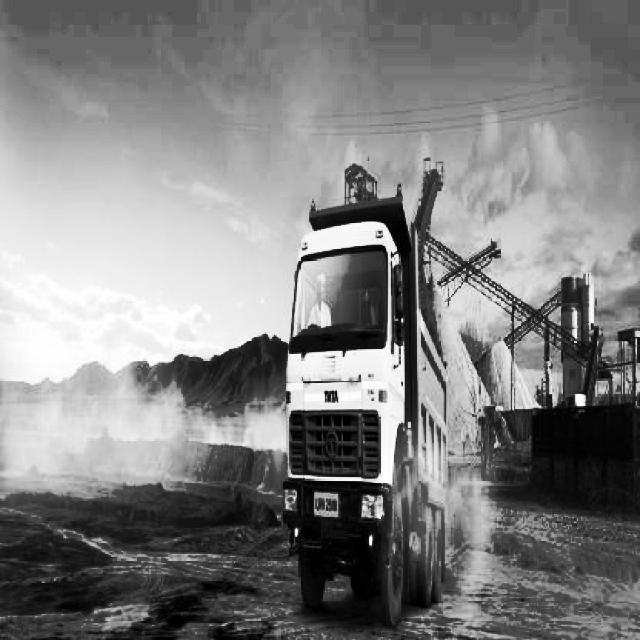HCV: (286, 268, 426, 632)
